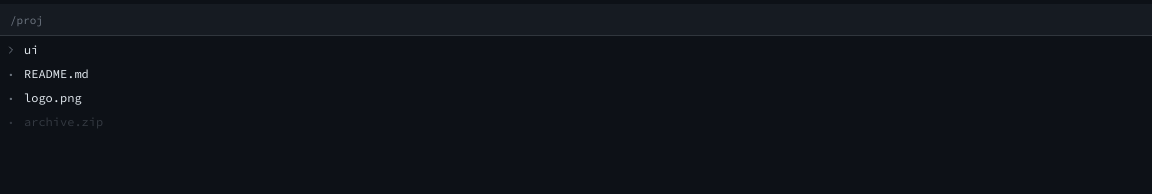
Scenario: FileTree — reveal active file › does not refresh expanded descendants hidden beneath a collapsed directory
Click the button "ui" at (22, 49), box [5, 42, 38, 57]
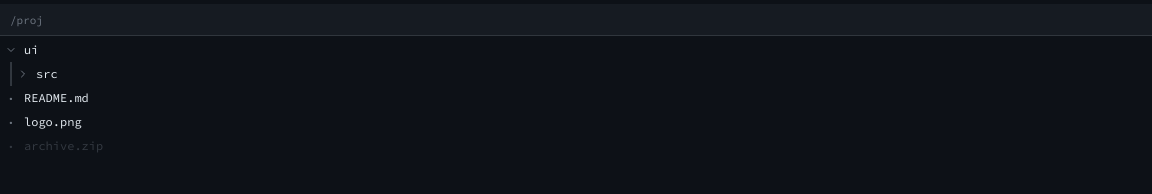
Click the button "src" at (37, 73), box [17, 66, 58, 81]
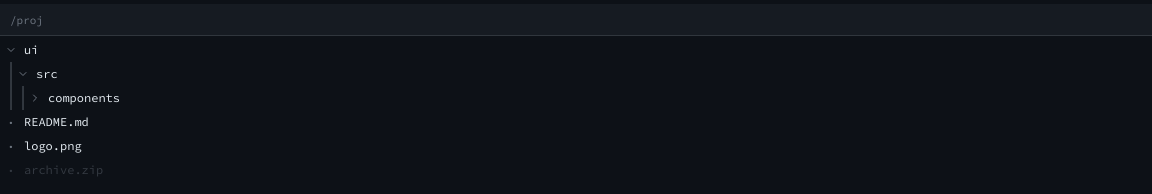
Result: the text "components" is shown at [48, 90, 120, 105]
Click the button "ui" at (22, 49), box [5, 42, 38, 57]
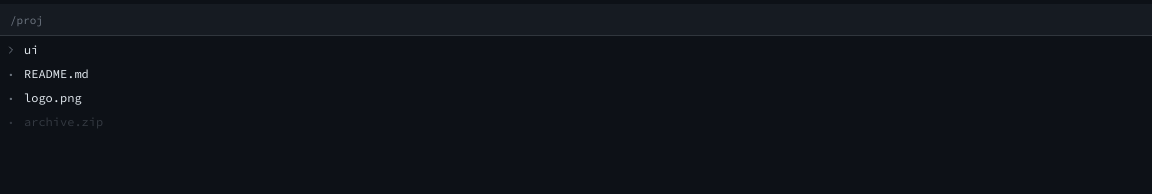
Result: the button "src" is gone
